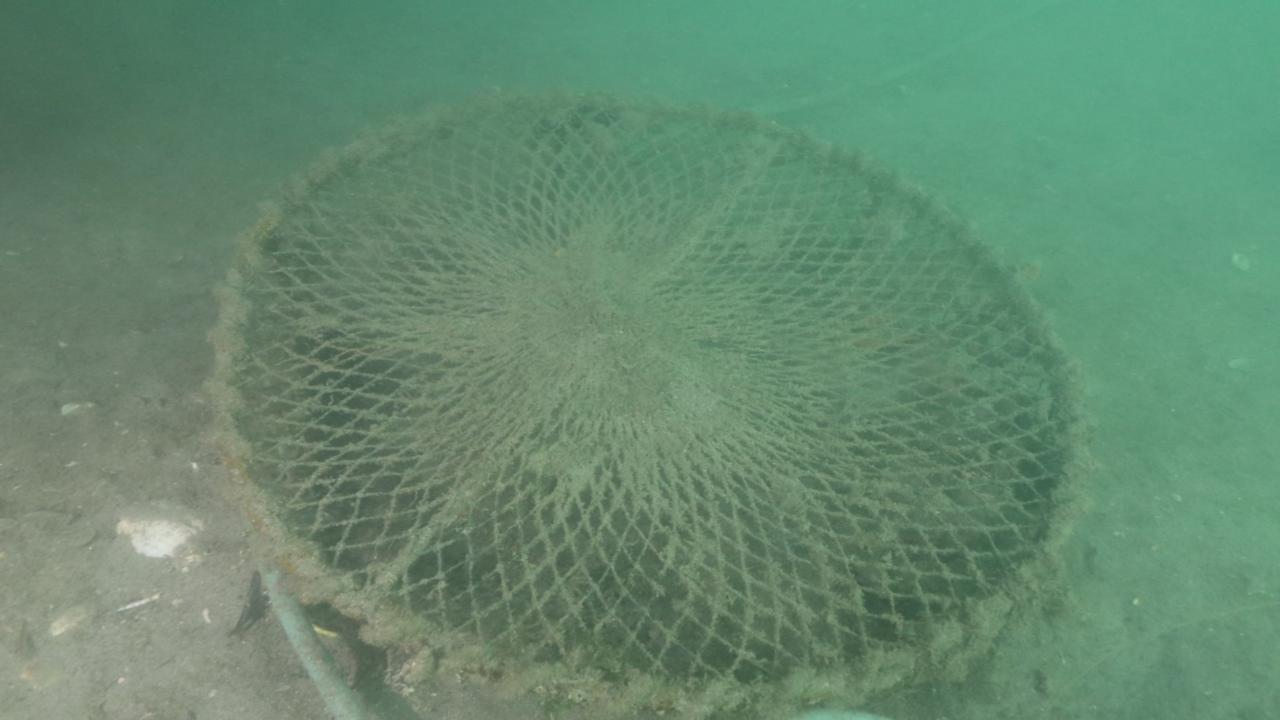circular fish trap: (213, 90, 1088, 711)
